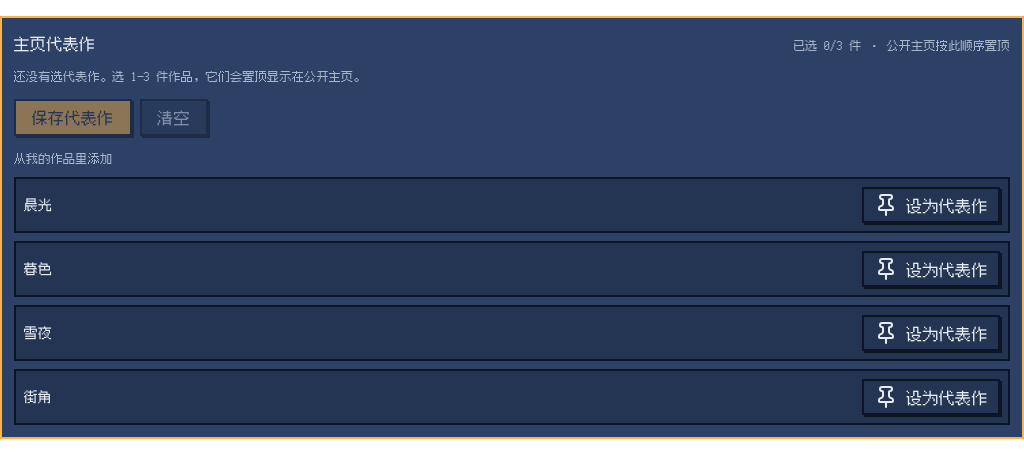
PinnedWorksPicker（/me） › 加满 3 件后再加会提示上限，且不会写入第 4 件
Click the button with aria-label "把「晨光」设为代表作".
click(931, 205)  # box [862,187,1000,223]
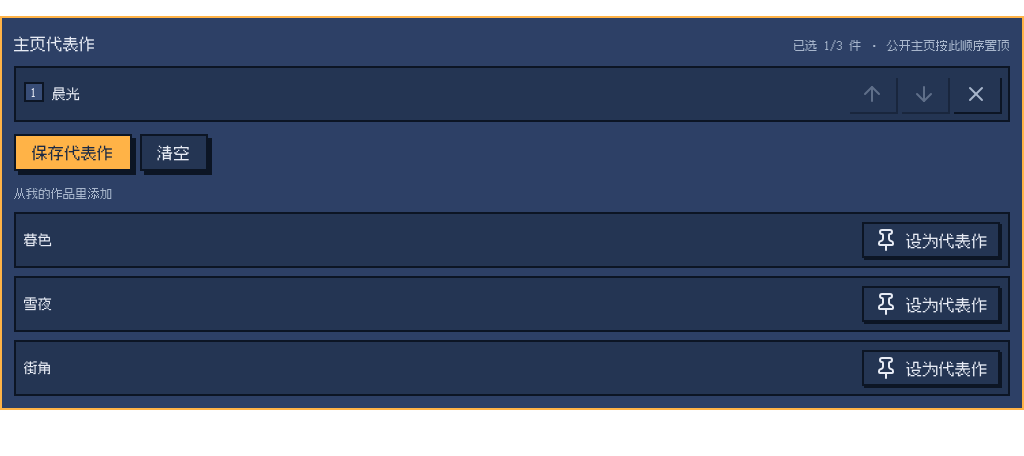
Click the button "设为代表作" in the row of "暮色".
click(931, 240)  # box [862,222,1000,258]
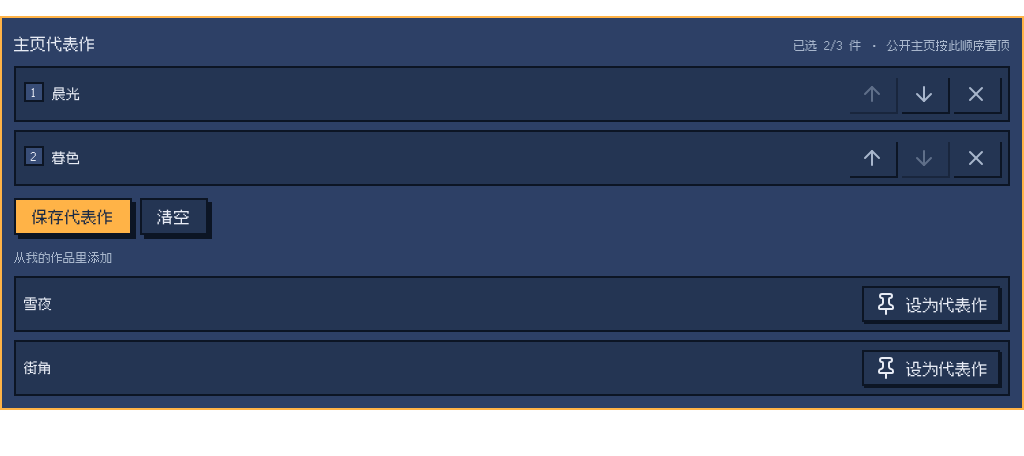
Click the button "设为代表作" in the row of "雪夜".
click(931, 304)  # box [862,286,1000,322]
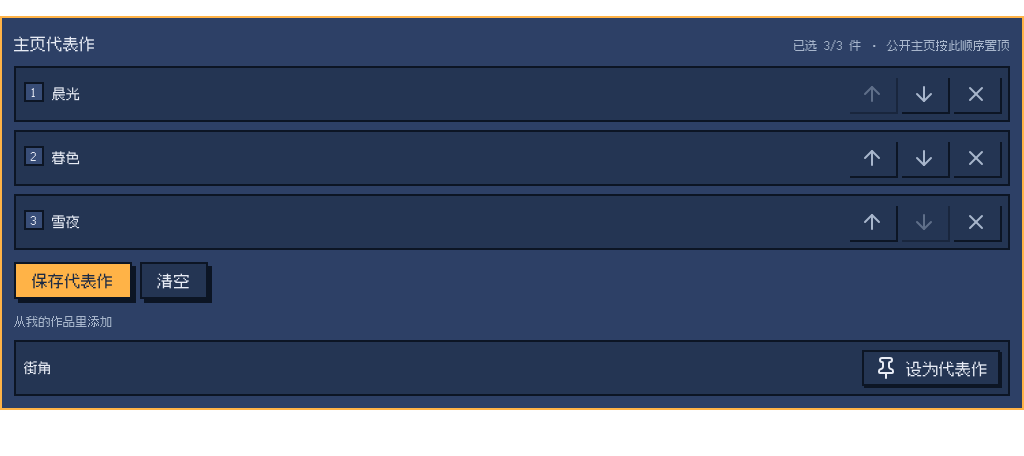
Click the button with aria-label "把「街角」设为代表作".
click(931, 368)  # box [862,350,1000,386]
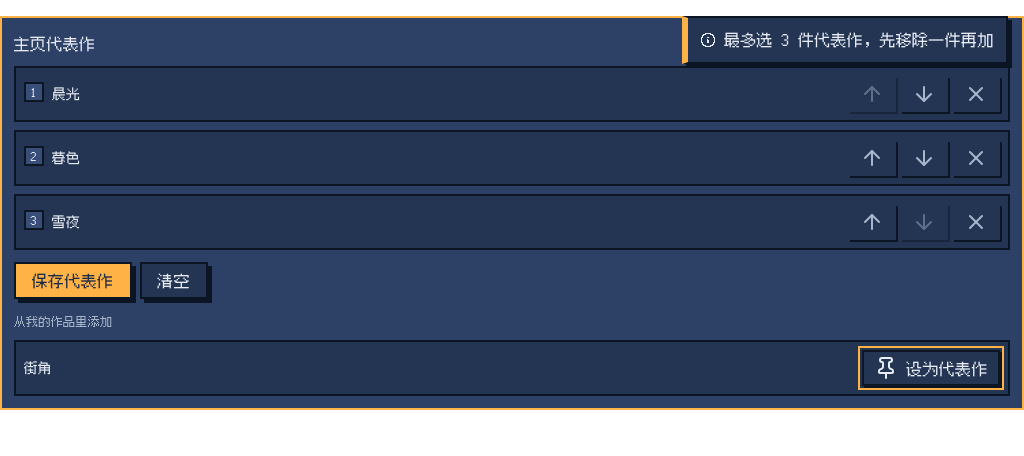
Now the text "已选 3/3 件 · 公开主页按此顺序置顶" is shown, box [793,35,1010,56]
Now the text "最多选 3 件代表作，先移除一件再加" is shown, box [724,26,994,54]
